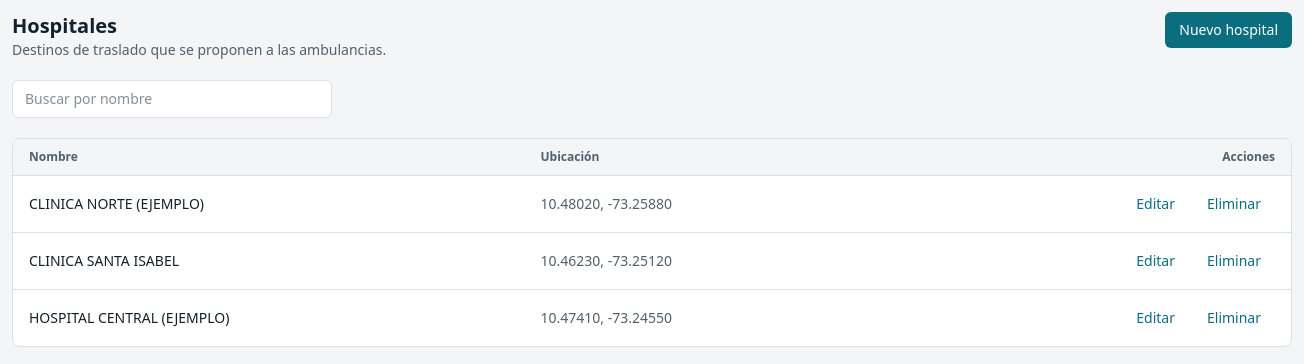
Test: HospitalsPage › filtra por nombre
The image size is (1304, 364).
Expected: the text "CLINICA SANTA ISABEL" is shown, [29,251,179,270]
Step 1. Type "central" into the search field labelled "Buscar por nombre" → (172, 99), box [12,80,332,118]
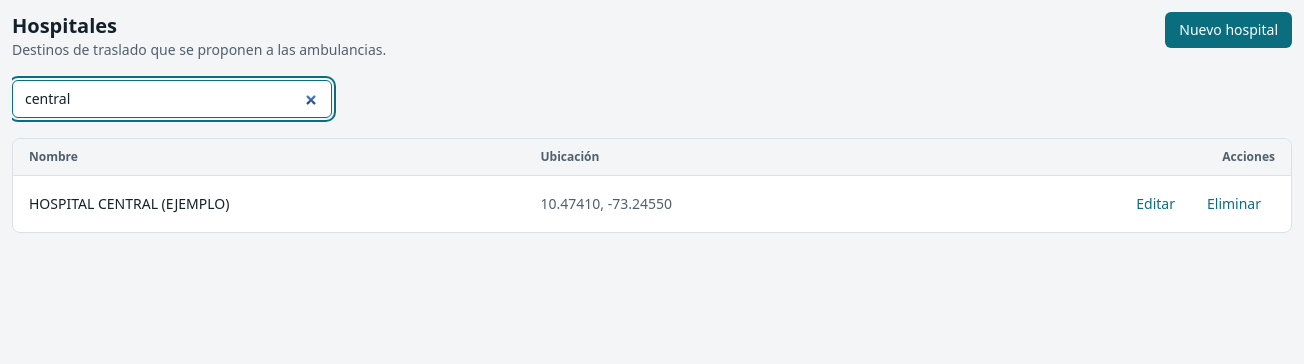
Step 2. Replace the text in the search field named "Buscar por nombre" with "zzz" → (172, 99), box [12,80,332,118]
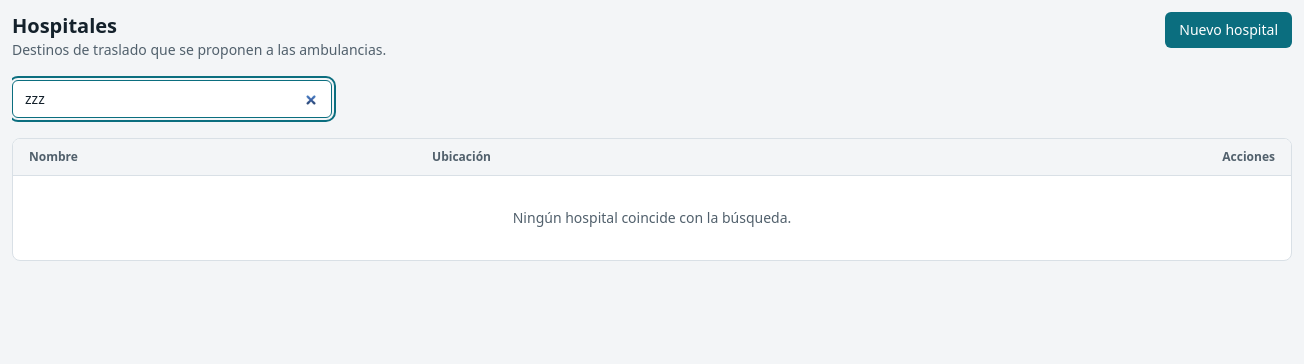
Expected: the text "Ningún hospital coincide con la búsqueda." is shown, [13,176,1291,260]
